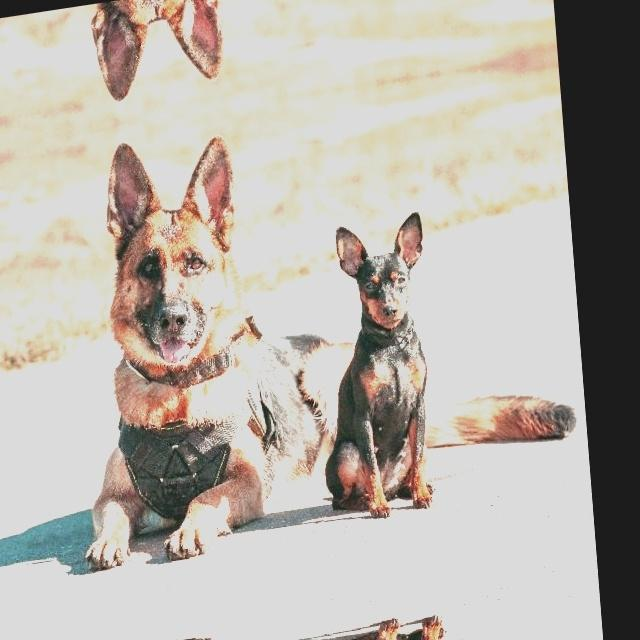dog: (57, 114, 306, 614), (308, 204, 482, 576), (46, 0, 268, 116), (334, 554, 492, 640), (94, 581, 316, 640)
